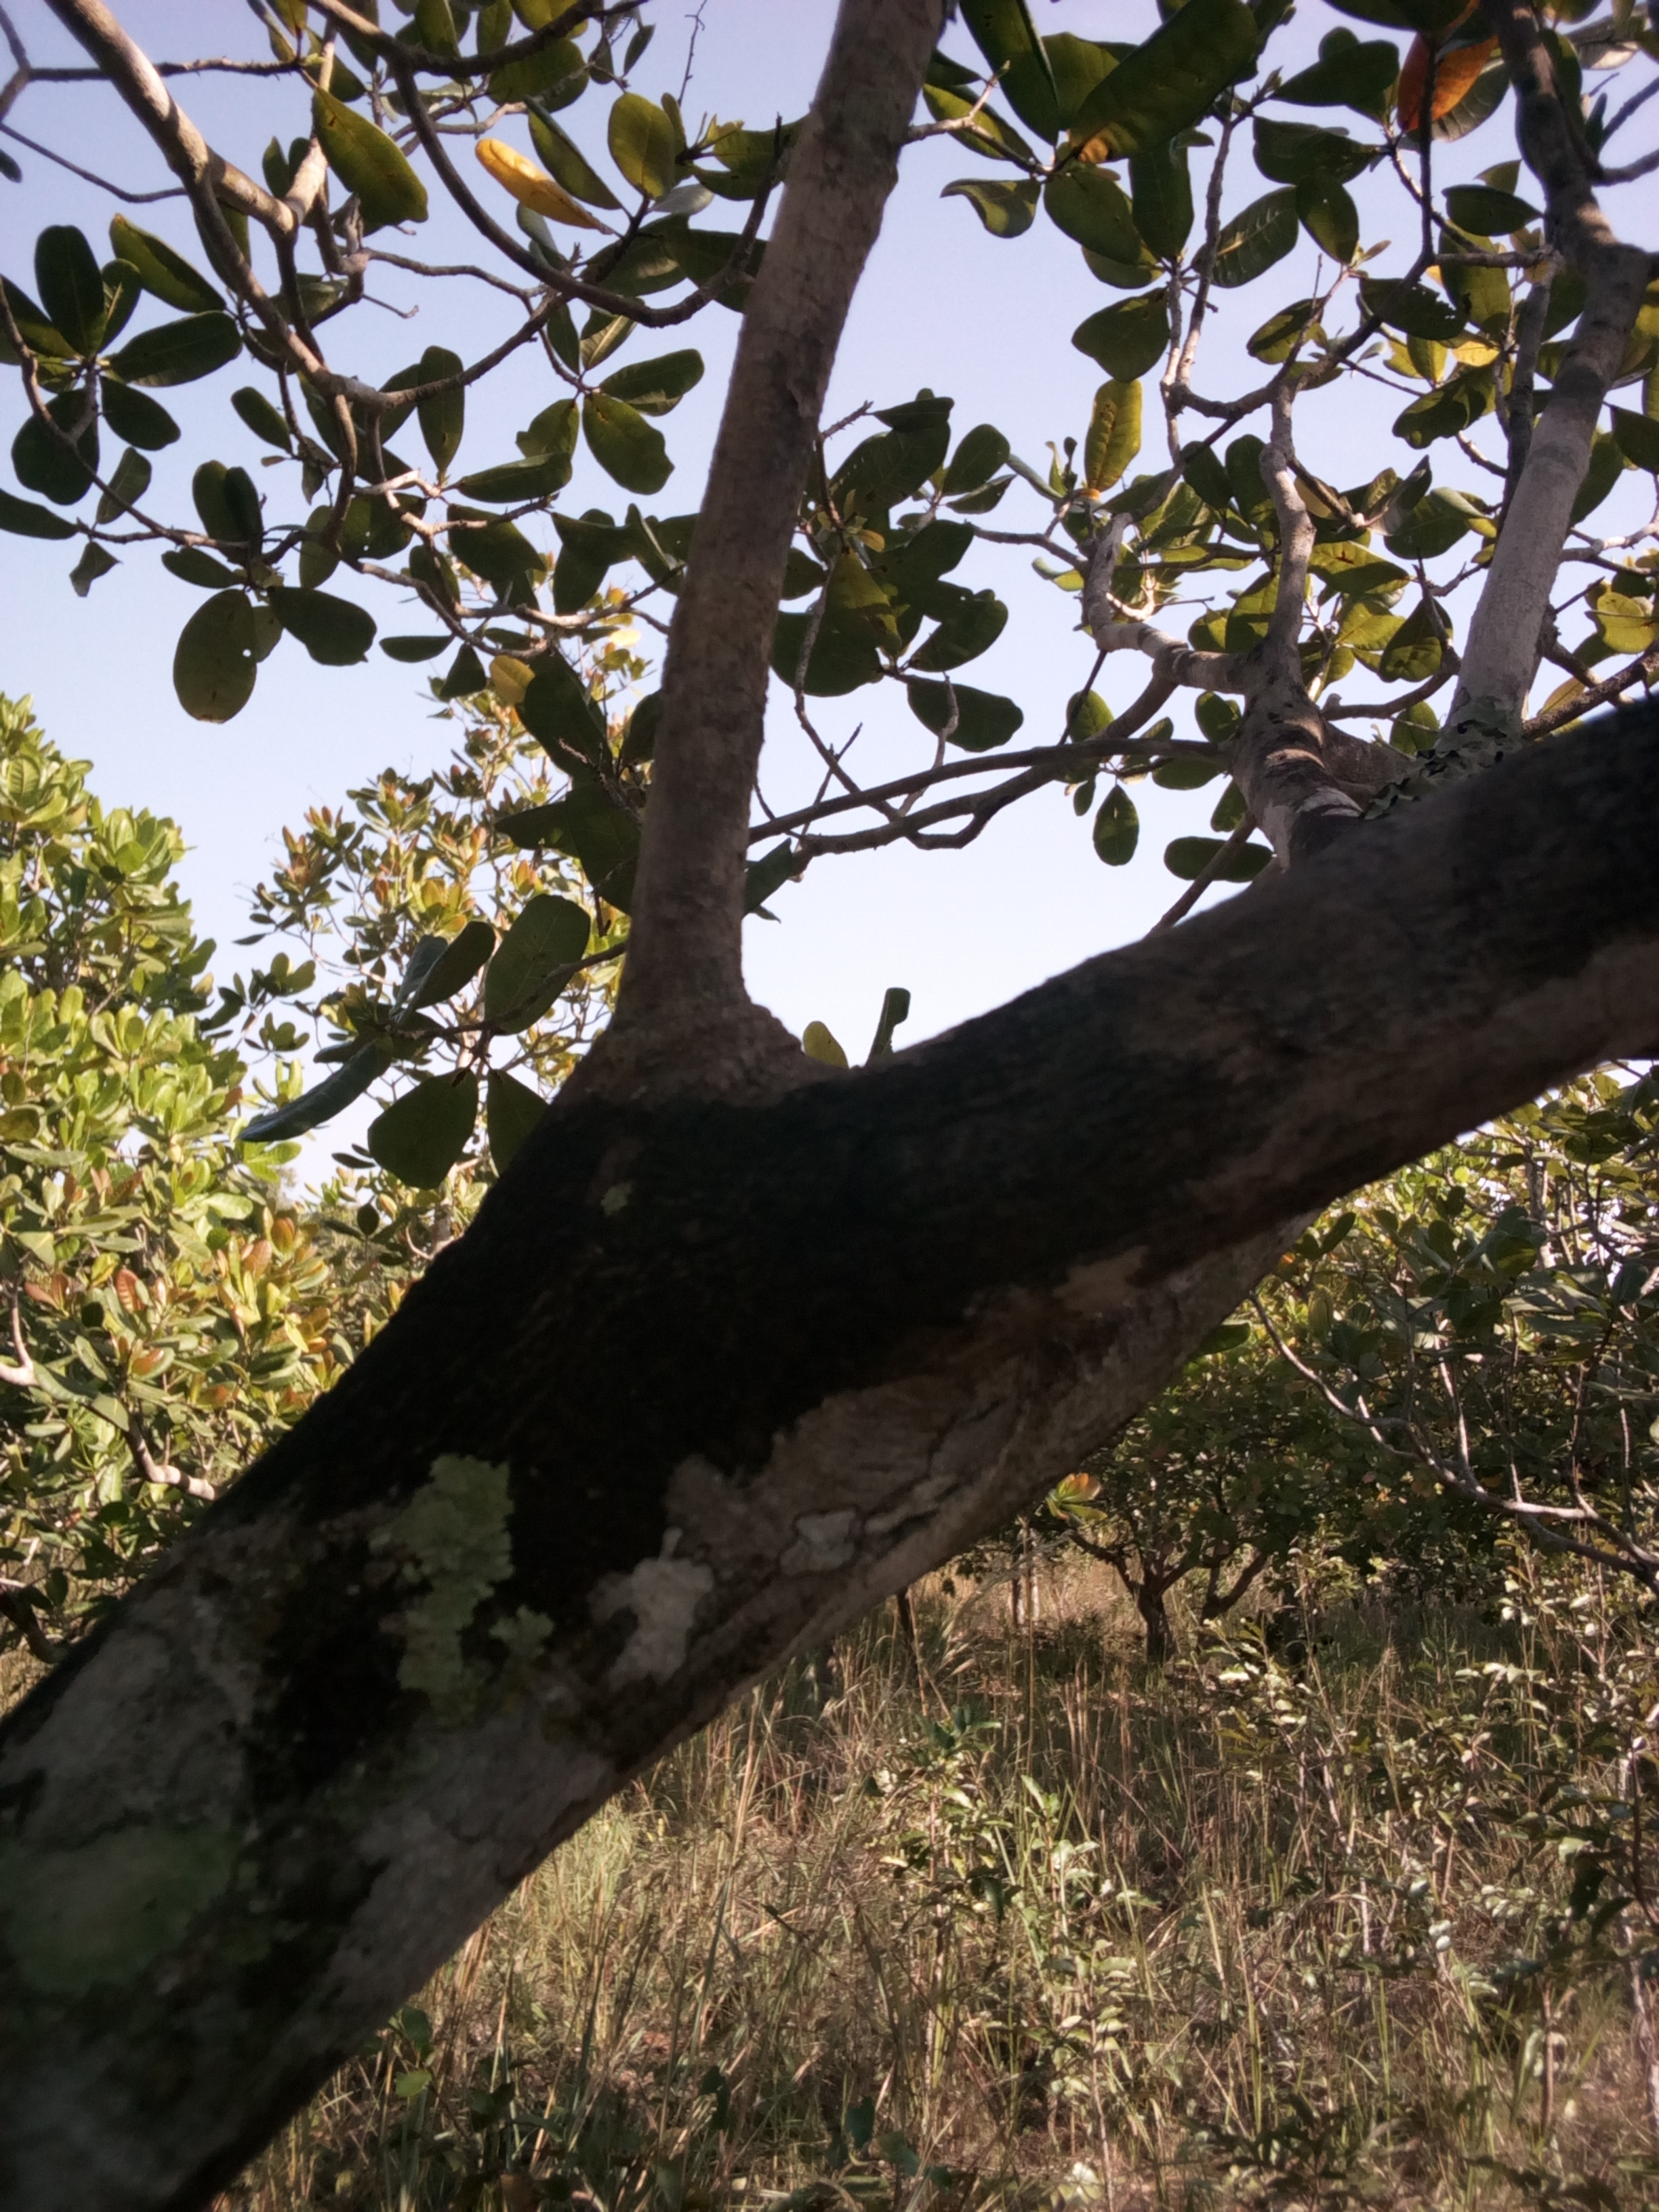Gommose: (274, 1001, 1236, 1526)
